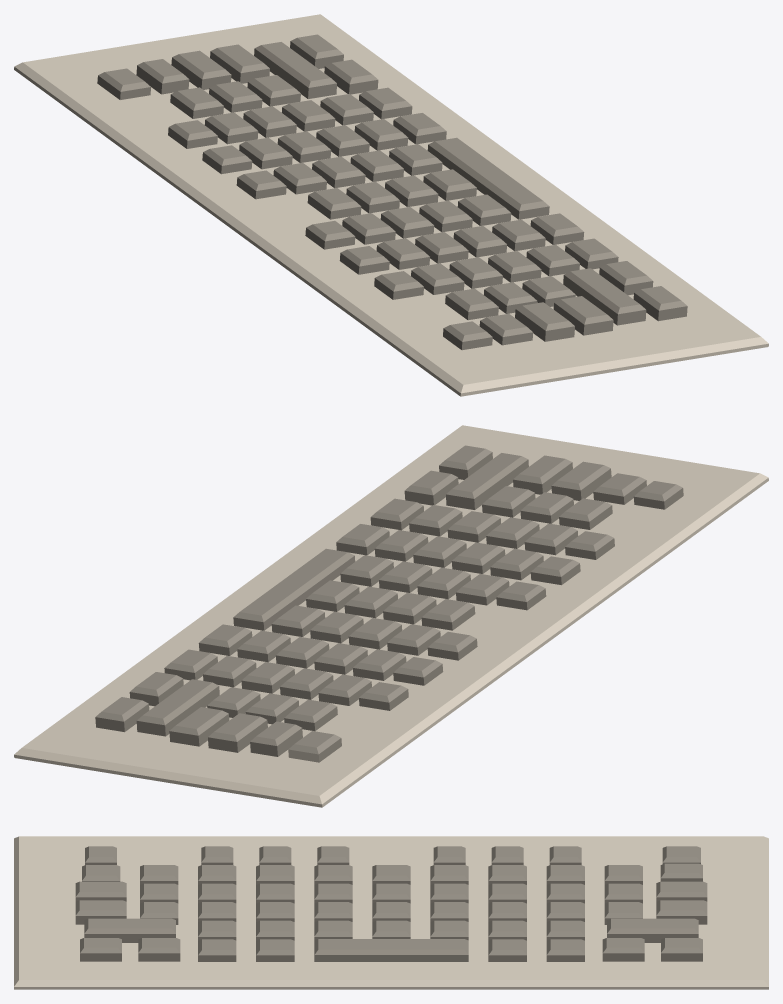
The model's file is Keyboard.fbx.
3 renders of one model, top to bottom at view 1: azimuth 30°, elevation 25°; view 2: azimuth 150°, elevation 25°; view 3: azimuth 270°, elevation 25°, orthographic. The views are drawn at different scales.
Visible parts, largest first — view 1: Keyboard.001; view 2: Keyboard.001; view 3: Keyboard.001.
Part boxes in pixels (<box>): Keyboard.001: <box>14,14,768,396</box>; Keyboard.001: <box>14,425,768,807</box>; Keyboard.001: <box>14,836,768,989</box>.
Bounding box in the file's own units: 101 × 14.55 × 254.
